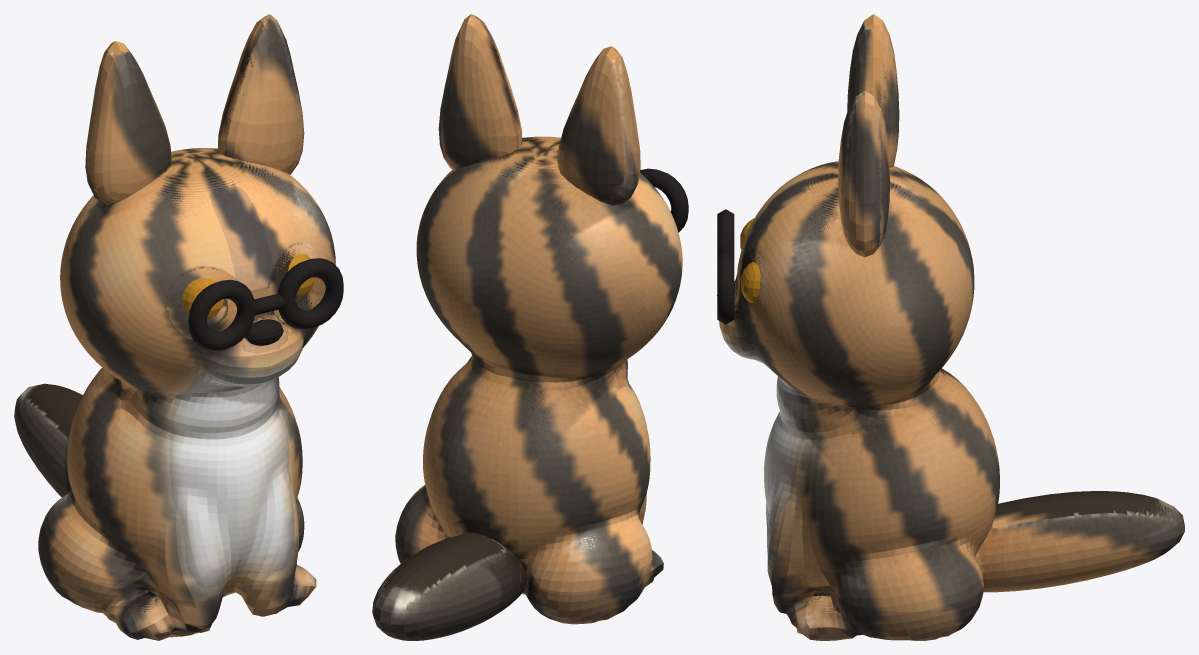
Rendered from figure.glb.
The picture shows the model from 3 angles, left to right: view 1: azimuth 30°, elevation 25°; view 2: azimuth 150°, elevation 25°; view 3: azimuth 270°, elevation 25°; orthographic projection. The views are drawn at different scales.
Parts seen in each view (by area): view 1: petpop_base_cat, accessory_glasses; view 2: petpop_base_cat, accessory_glasses; view 3: petpop_base_cat, accessory_glasses.
Part boxes in pixels (<box>): petpop_base_cat: <box>14,14,335,640</box>; accessory_glasses: <box>188,258,343,350</box>; petpop_base_cat: <box>372,14,682,640</box>; accessory_glasses: <box>640,168,688,232</box>; petpop_base_cat: <box>717,14,1184,640</box>; accessory_glasses: <box>717,209,734,324</box>.
Bounding box in the file's own units: 45.86 × 102 × 78.35.
Materials: 2 (1 with a texture image).
